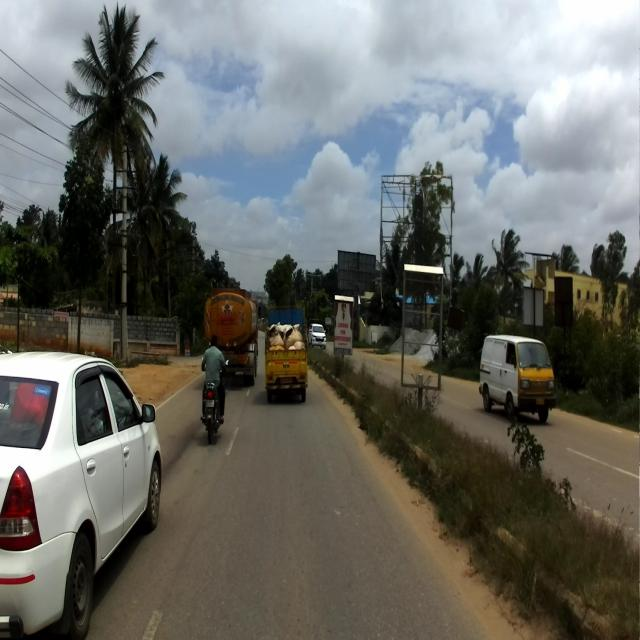car: (0, 347, 161, 639), (478, 332, 555, 421)
motorcycle: (200, 358, 230, 441)
truck: (264, 297, 310, 402)
